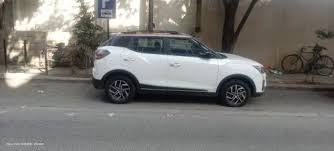XUV 400: (90, 30, 267, 107)
